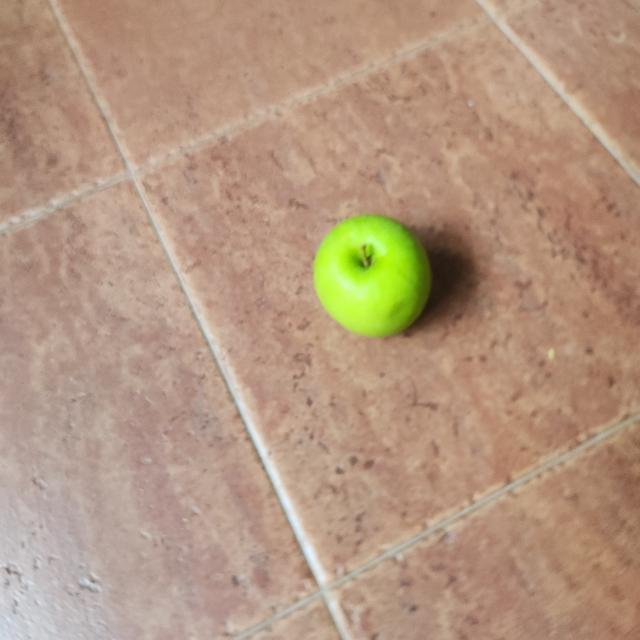apple: (310, 206, 440, 344)
